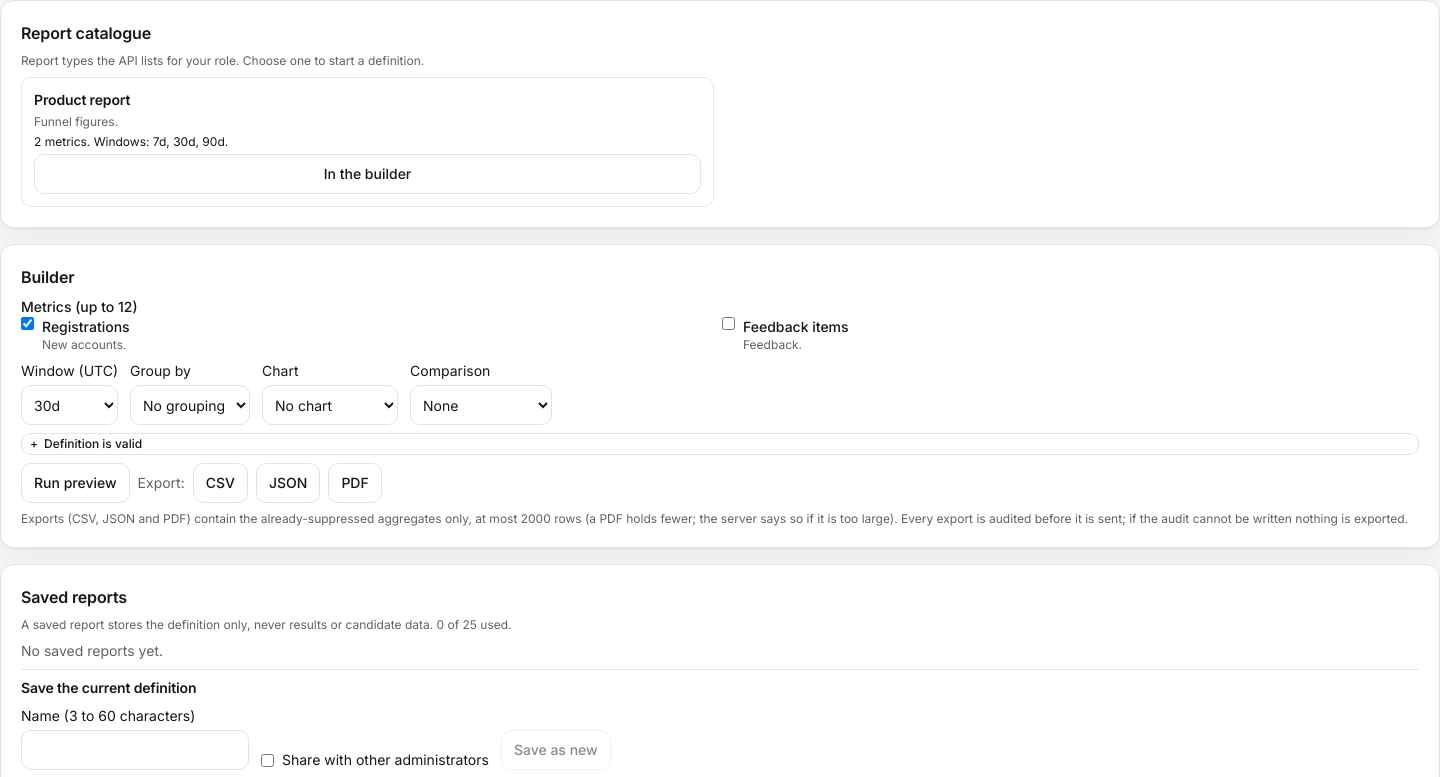
Test: builder UI › a refused export or a 503 audit failure shows an explicit error and creates no file
Expected: the heading "Builder" is shown, [21,267,74,287]
Expected: the text "Definition is valid" is shown, [44,436,142,451]
Click the button with aria-label "Export CSV" at {"x": 220, "y": 483}, box [193,463,248,503]
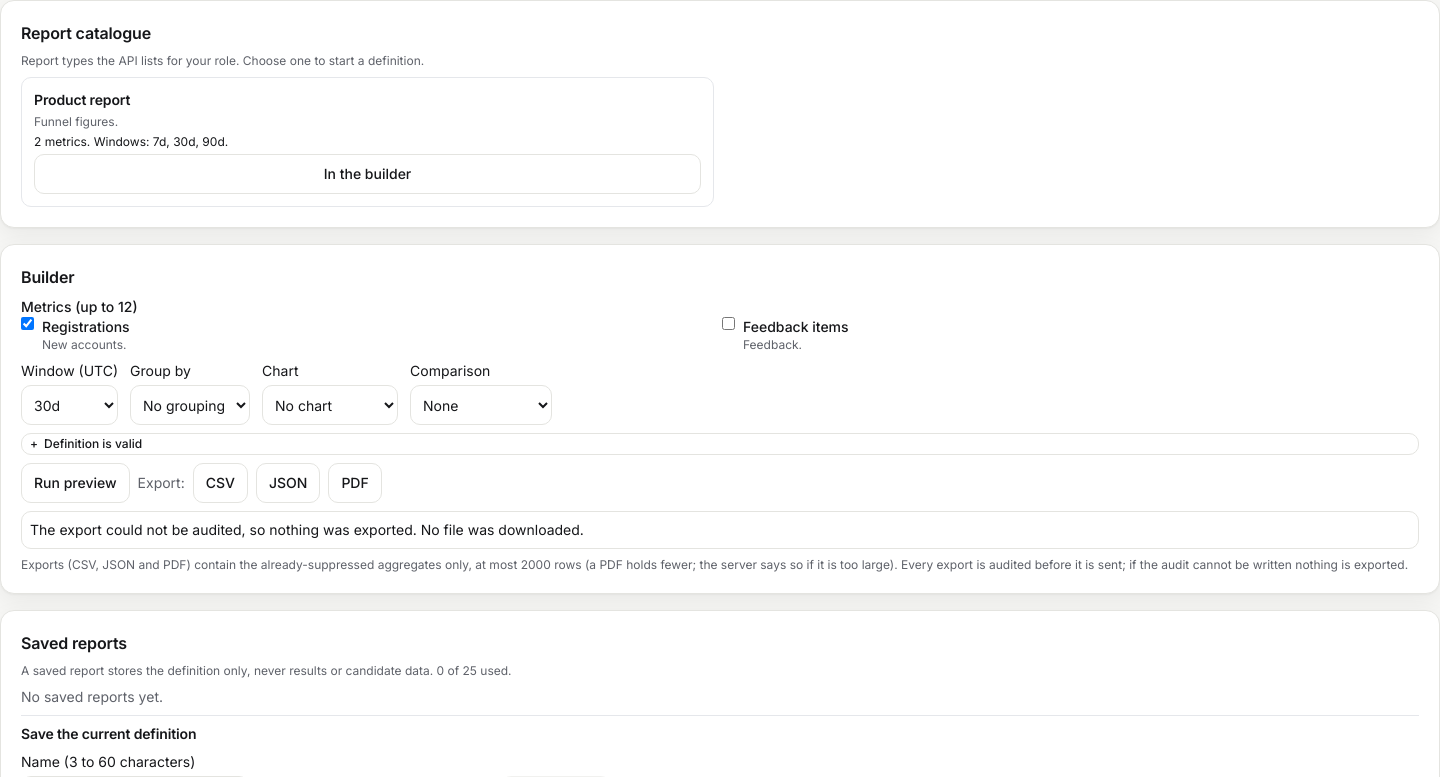
Now the text "nothing was exported. No file was downloaded." is shown, box [30,521,584,538]
Click the button with aria-label "Export JSON" at {"x": 288, "y": 483}, box [256,463,320,503]
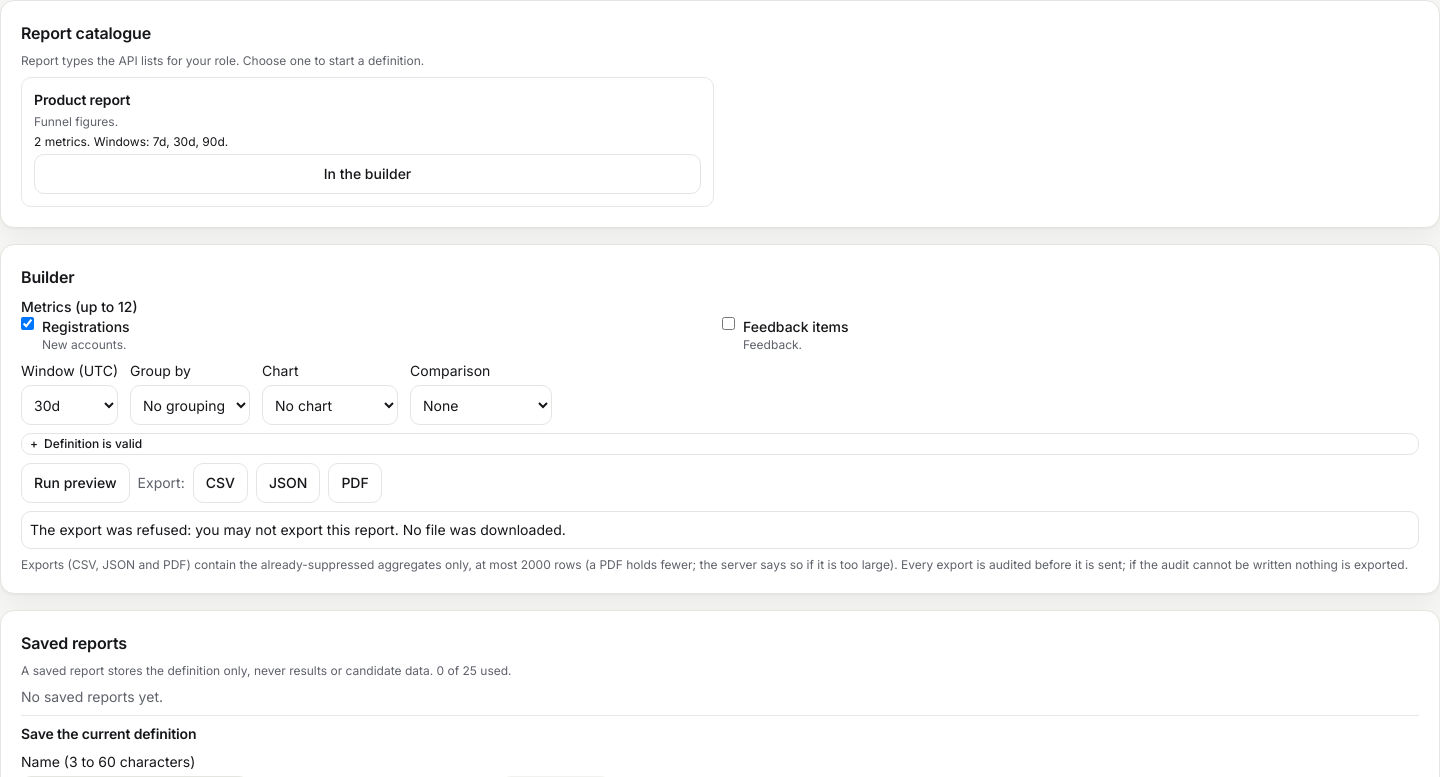
Now the message shows "refused", box [30,521,566,538]
